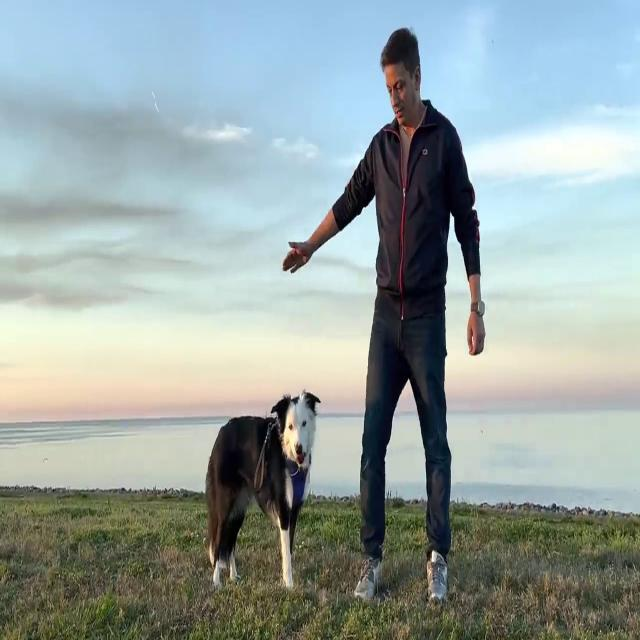Unleashed_Dog: (205, 309, 423, 591)
